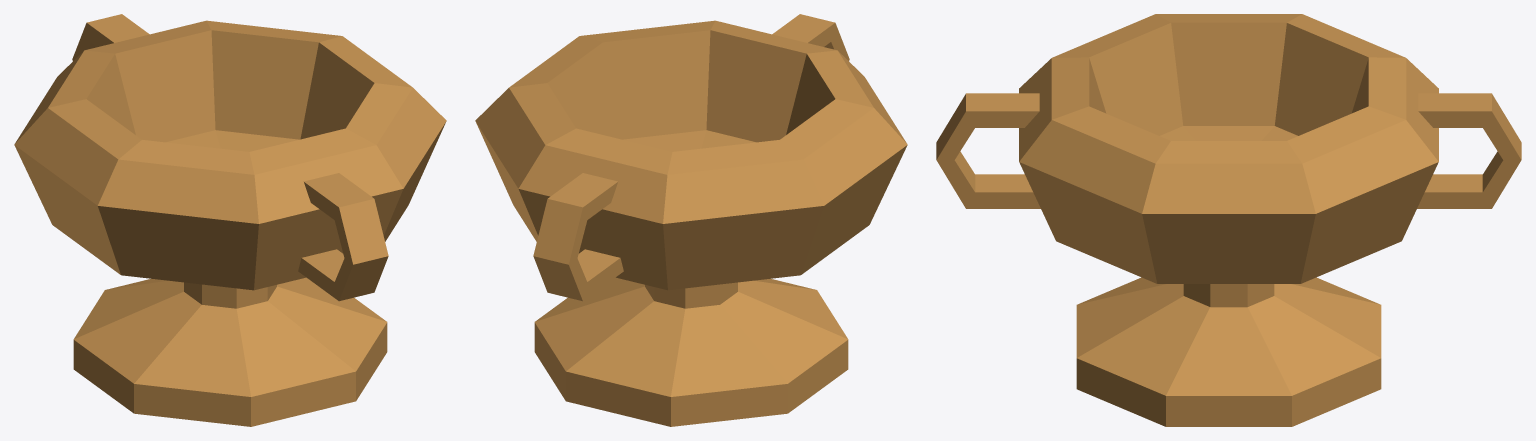
The model's file is SM_Prop_Gold_Bowl_03.glb.
The picture shows the model from 3 angles, left to right: view 1: azimuth 30°, elevation 25°; view 2: azimuth 150°, elevation 25°; view 3: azimuth 270°, elevation 25°; orthographic projection. The views are drawn at different scales.
Parts seen in each view (by area): view 1: SM_Prop_Gold_Bowl_03; view 2: SM_Prop_Gold_Bowl_03; view 3: SM_Prop_Gold_Bowl_03.
Part boxes in pixels (box(x1,y1,x2,y2)): SM_Prop_Gold_Bowl_03: box(14, 14, 446, 426); SM_Prop_Gold_Bowl_03: box(475, 14, 907, 426); SM_Prop_Gold_Bowl_03: box(936, 14, 1521, 426).
Bounding box in the file's own units: 0.4552 × 0.336 × 0.6345.
Materials: 1 (1 with a texture image).
